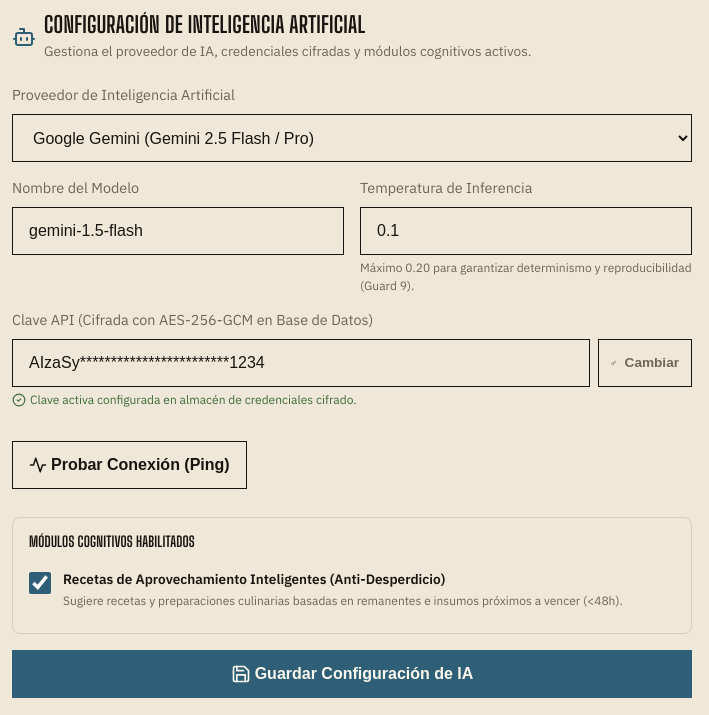
Test case: TK-123-FE: AiSettingsSection Component Suite › ejecuta prueba de conexión y muestra badge de latencia
Expected: the field showing "gemini-1.5-flash" is shown, x1=12 y1=207 x2=344 y2=255
What coordinates should you click on to do the following:
click the button "Probar Conexión (Ping)"
I would click on:
 (129, 465)
Its box is x1=12 y1=441 x2=247 y2=489.
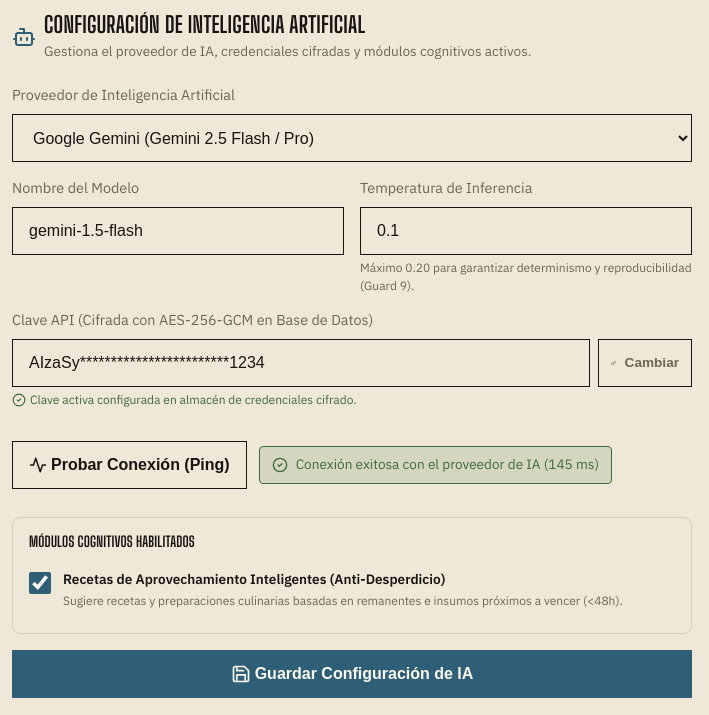
Result: the text "Conexión exitosa con el proveedor de IA (145 ms)" is shown at x1=296 y1=455 x2=599 y2=475
